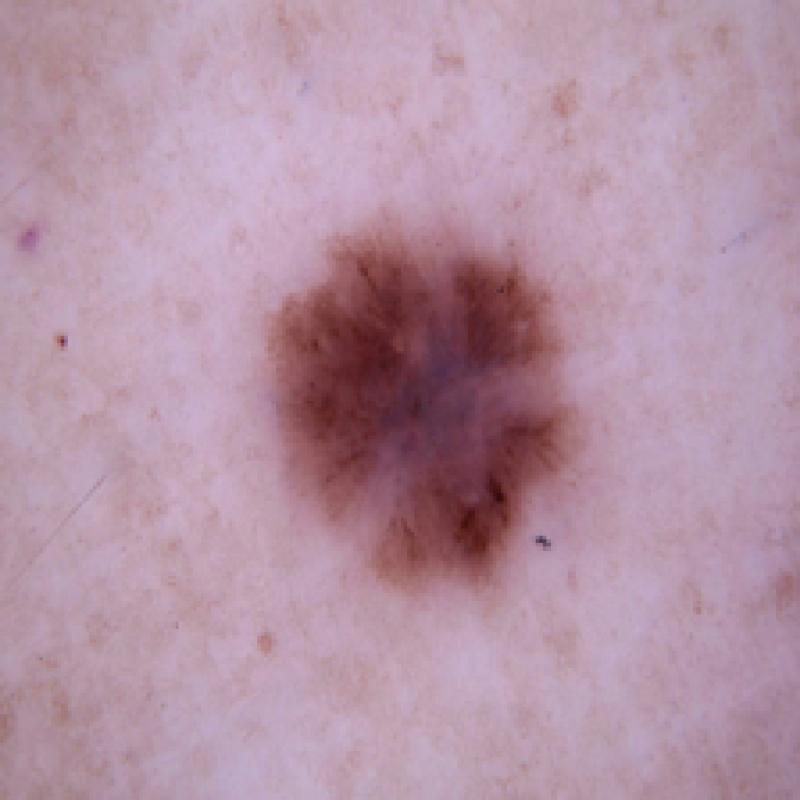benign: (252, 205, 613, 613)
